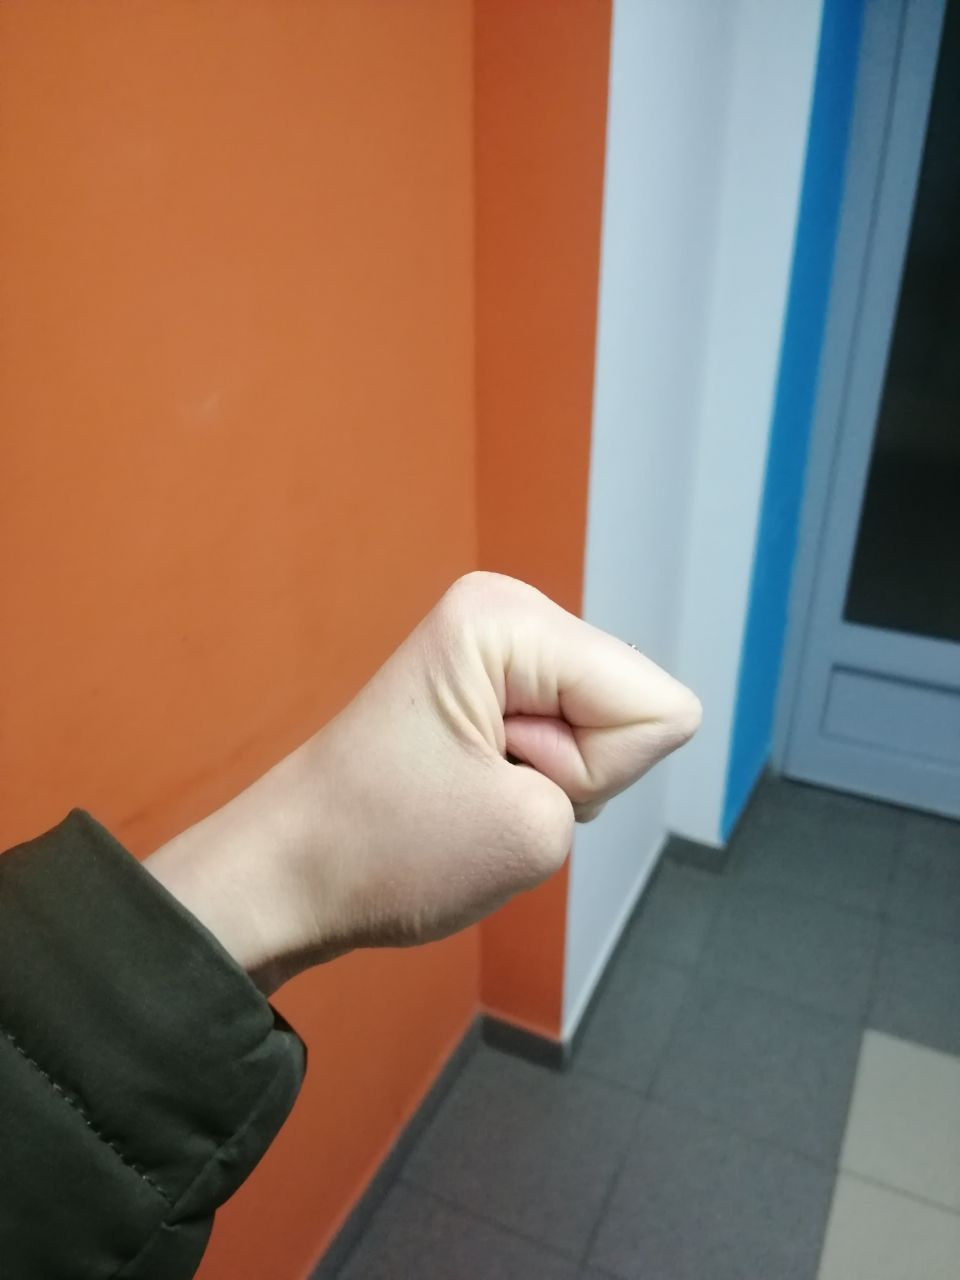hand: (307, 612, 655, 945)
